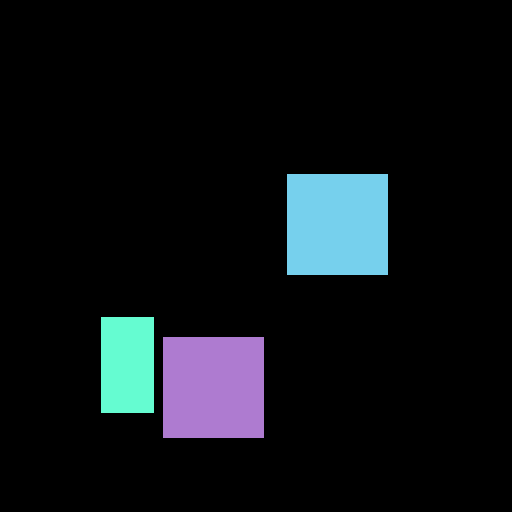rectangle: (101, 317, 153, 412)
square: (163, 337, 263, 437), (287, 174, 387, 274)
